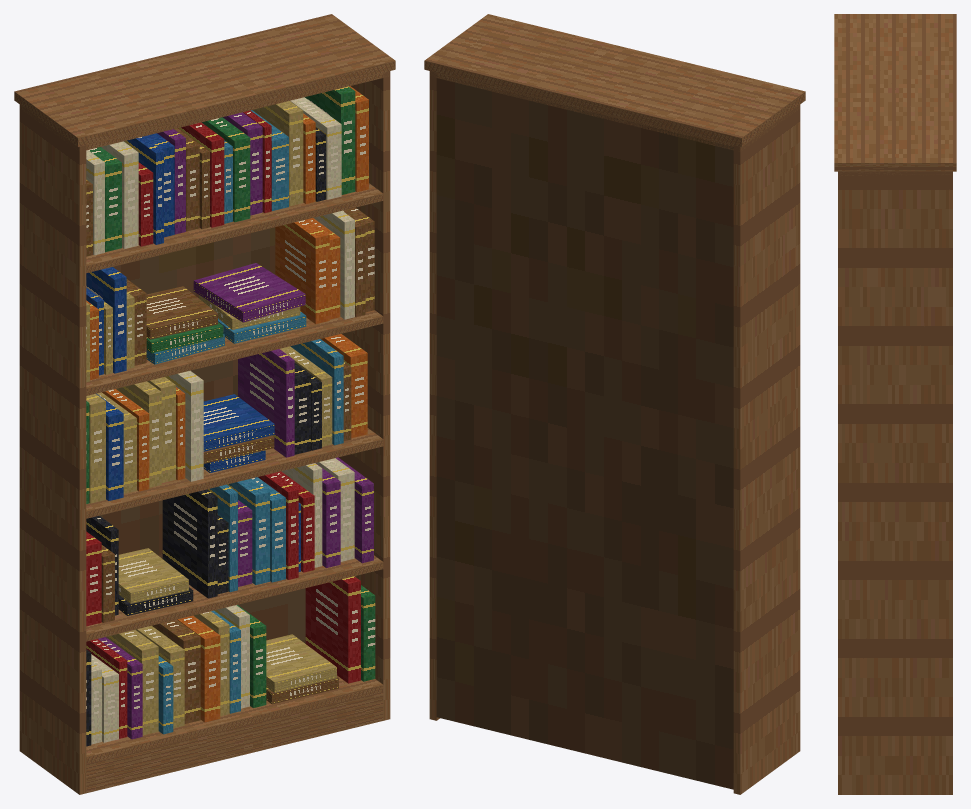
File: PSX_ShelvesPropsNormalItemsBookcase_Tall.glb
3 renders of one model, left to right at view 1: azimuth 30°, elevation 25°; view 2: azimuth 150°, elevation 25°; view 3: azimuth 270°, elevation 25°, orthographic. The views are drawn at different scales.
Visible parts, largest first — view 1: Bookcase_Tall; view 2: Bookcase_Tall; view 3: Bookcase_Tall.
Boxes of the visible parts, x1=… form: Bookcase_Tall: x1=14, y1=14, x2=395, y2=794; Bookcase_Tall: x1=424, y1=14, x2=805, y2=794; Bookcase_Tall: x1=834, y1=14, x2=956, y2=794.
Size of the model in its own units: 0.92 by 1.83 by 0.32.
12 materials, 12 textured.
